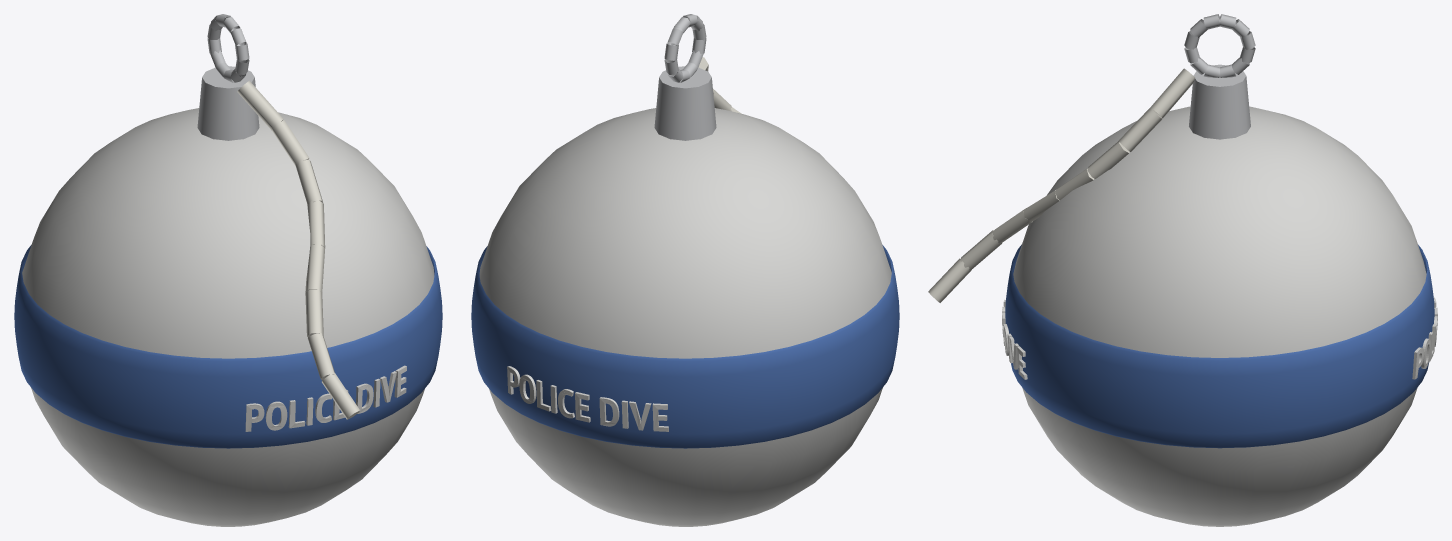
The model's file is lake_buoy_a.glb.
3 views of the same model, side by side, from view 1: azimuth 30°, elevation 25°; view 2: azimuth 150°, elevation 25°; view 3: azimuth 270°, elevation 25° (orthographic).
Parts seen in each view (by area): view 1: body; view 2: body; view 3: body.
Part boxes in pixels (bbox=[...]): body: bbox=[14, 14, 442, 526]; body: bbox=[471, 14, 899, 526]; body: bbox=[928, 14, 1437, 526].
Size of the model in its own units: 0.406 by 0.513 by 0.4818.
